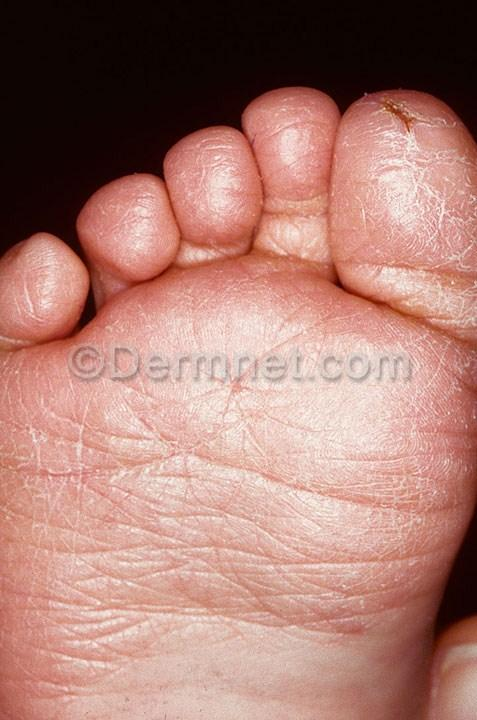Eczema: (133, 271, 246, 372), (69, 429, 190, 519), (315, 315, 429, 406), (0, 349, 95, 447), (254, 472, 360, 558), (215, 251, 318, 338), (94, 318, 176, 416), (129, 503, 222, 588), (170, 149, 264, 232), (190, 436, 263, 540), (0, 539, 71, 644), (321, 269, 425, 337), (278, 551, 357, 640), (64, 480, 129, 584), (336, 409, 413, 496), (250, 187, 335, 264), (210, 543, 284, 630), (246, 341, 316, 432), (409, 437, 472, 533), (354, 557, 418, 651), (91, 192, 169, 268), (256, 101, 333, 177), (5, 263, 85, 333), (0, 444, 61, 533), (337, 199, 408, 275), (157, 562, 216, 647), (1, 644, 65, 720), (413, 223, 477, 298), (104, 597, 174, 662), (169, 360, 234, 430), (382, 155, 444, 226), (333, 109, 380, 201), (376, 96, 450, 154), (56, 585, 102, 676), (426, 350, 477, 431), (404, 534, 449, 621), (429, 288, 477, 362), (268, 425, 343, 471), (348, 497, 403, 558), (437, 140, 477, 223)
